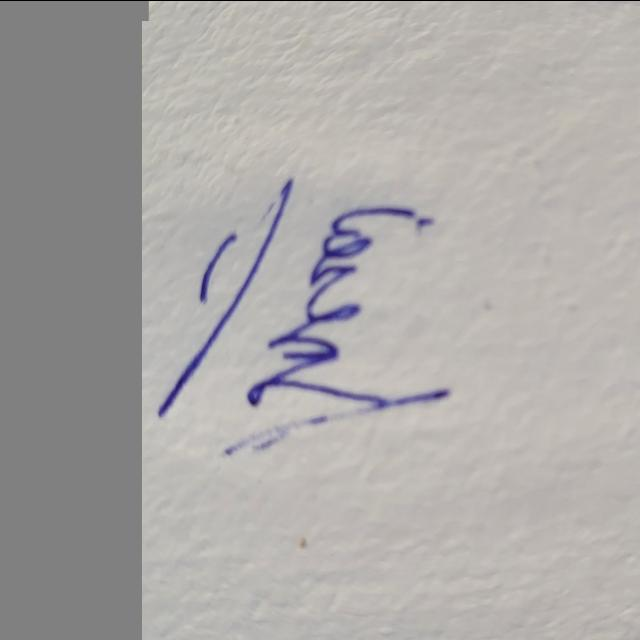signature: (151, 164, 476, 477)
